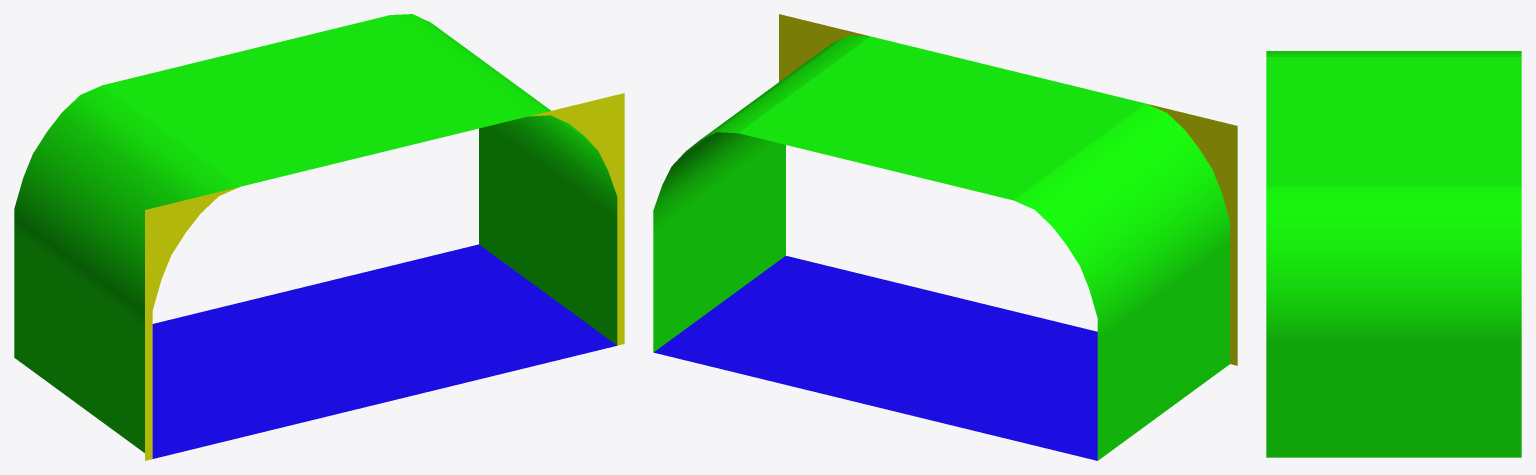
Rendered from Tunnel_large.fbx.
3 renders of one model, left to right at view 1: azimuth 30°, elevation 25°; view 2: azimuth 150°, elevation 25°; view 3: azimuth 270°, elevation 25°, orthographic. The views are drawn at different scales.
Parts seen in each view (by area): view 1: Tunnel_Large; view 2: Tunnel_Large; view 3: Tunnel_Large.
Boxes of the visible parts, left/top/right/bottom form: Tunnel_Large: left=14, top=14, right=624, bottom=460; Tunnel_Large: left=653, top=14, right=1237, bottom=460; Tunnel_Large: left=1266, top=51, right=1521, bottom=457.
Bounding box in the file's own units: 10 × 5 × 5.
